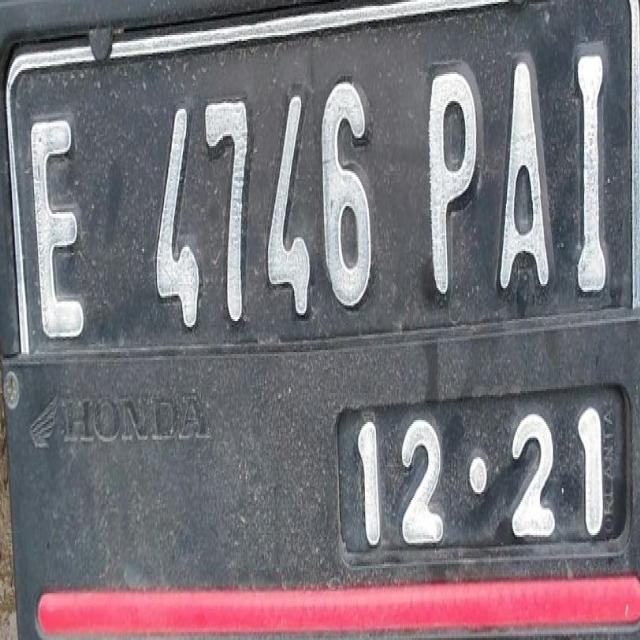plate: (2, 2, 640, 556)
